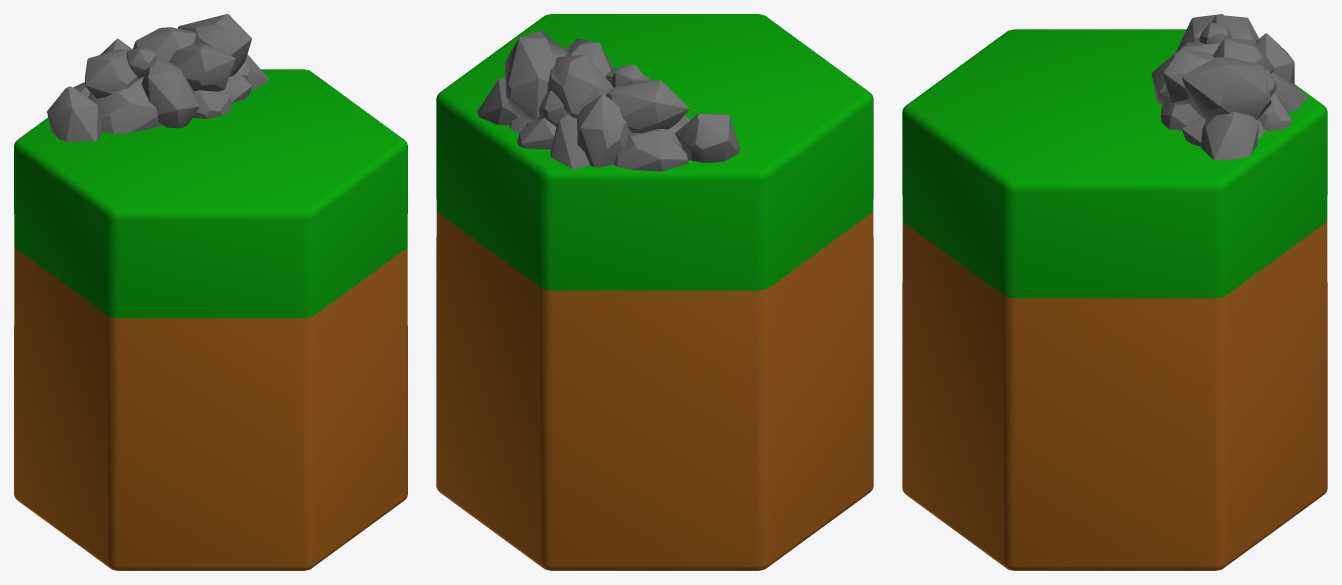
The model's file is rockyTile.fbx.
The picture shows the model from 3 angles, left to right: view 1: azimuth 30°, elevation 25°; view 2: azimuth 150°, elevation 25°; view 3: azimuth 270°, elevation 25°; orthographic projection. The views are drawn at different scales.
Visible parts, largest first — view 1: Cylinder, Icosphere.015, Icosphere.005, Icosphere.009, Icosphere.014, Icosphere.010, Icosphere.013, Icosphere.011, Icosphere.008, Icosphere.016, Icosphere.007, Icosphere.006; view 2: Cylinder, Icosphere.010, Icosphere.013, Icosphere, Icosphere.011, Icosphere.009, Icosphere.004, Icosphere.002, Icosphere.006, Icosphere.003, Icosphere.014, Icosphere.012 (+1 smaller); view 3: Cylinder, Icosphere.010, Icosphere.006, Icosphere.014, Icosphere.011, Icosphere, Icosphere.015, Icosphere.008, Icosphere.003, Icosphere.013, Icosphere.002, Icosphere.009 (+1 smaller).
Part boxes in pixels (x1,y1,x2,y2): Cylinder: (14, 69, 407, 570); Icosphere.015: (141, 56, 199, 128); Icosphere.005: (88, 76, 163, 133); Icosphere.009: (47, 86, 102, 141); Icosphere.014: (169, 43, 235, 91); Icosphere.010: (178, 14, 251, 76); Icosphere.013: (85, 49, 141, 98); Icosphere.011: (132, 27, 196, 61); Icosphere.008: (193, 90, 231, 118); Icosphere.016: (126, 46, 156, 77); Icosphere.007: (223, 73, 251, 102); Icosphere.006: (236, 54, 269, 90); Cylinder: (436, 14, 873, 570); Icosphere.010: (504, 30, 568, 120); Icosphere.013: (606, 79, 689, 132); Icosphere: (576, 93, 631, 167); Icosphere.011: (547, 55, 613, 117); Icosphere.009: (675, 113, 740, 162); Icosphere.004: (613, 129, 689, 171); Icosphere.002: (550, 114, 589, 169); Icosphere.006: (477, 78, 517, 125); Icosphere.003: (517, 118, 556, 149); Icosphere.014: (566, 38, 612, 76); Icosphere.012: (538, 90, 566, 126); Cylinder: (902, 29, 1327, 570); Icosphere.010: (1182, 57, 1271, 120); Icosphere.006: (1200, 111, 1258, 160); Icosphere.014: (1163, 48, 1213, 104); Icosphere.011: (1212, 38, 1274, 73); Icosphere: (1255, 33, 1294, 84); Icosphere.015: (1151, 42, 1219, 104); Icosphere.008: (1160, 97, 1200, 130); Icosphere.003: (1259, 92, 1291, 130); Icosphere.013: (1211, 15, 1259, 42); Icosphere.002: (1271, 73, 1308, 112); Icosphere.009: (1176, 14, 1223, 51).
Size of the model in its own units: 173 by 239 by 198.
